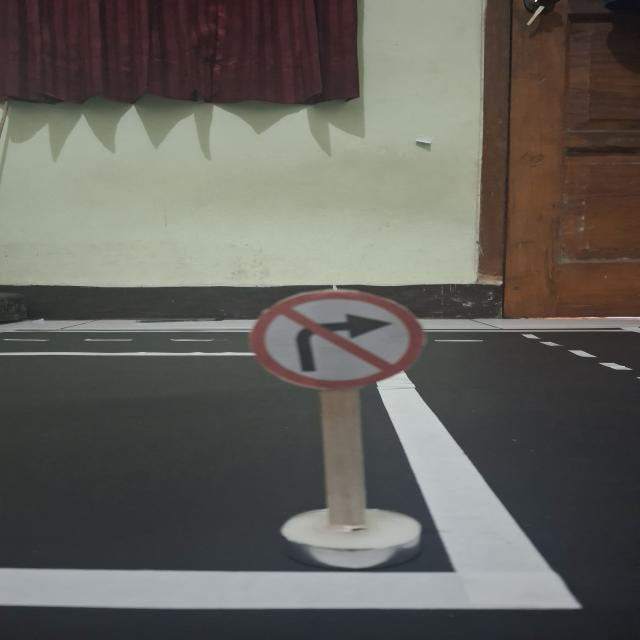Dilarang Belok Kanan: (250, 290, 424, 389)
